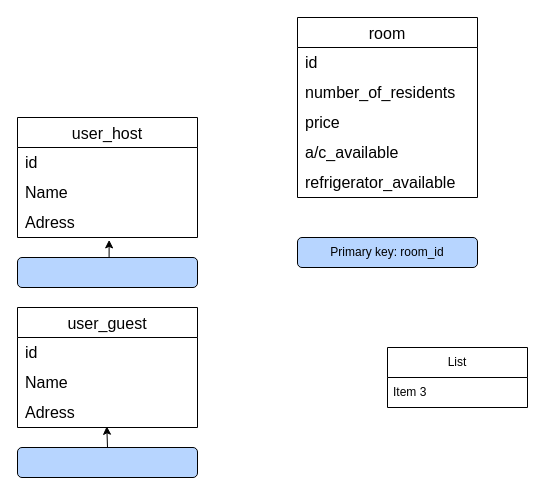
The diagram is 545 pixels wide and 495 high, and some of its shapes have lost their labels. Here are the shapes that lost their labels. From the top down, the centre of each, then its label:
At [107,272]: "Primary key: user_host_id".
At [107,462]: "Primary key: user_guest_id".
